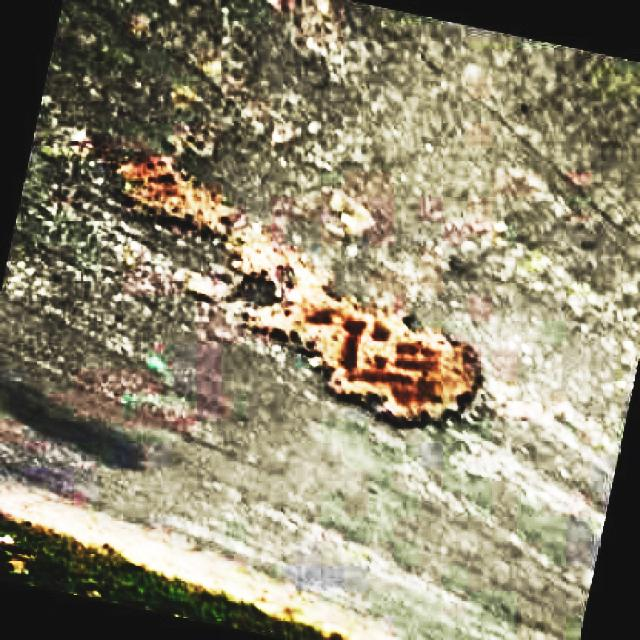pothole: (243, 291, 491, 434), (117, 151, 328, 298)
